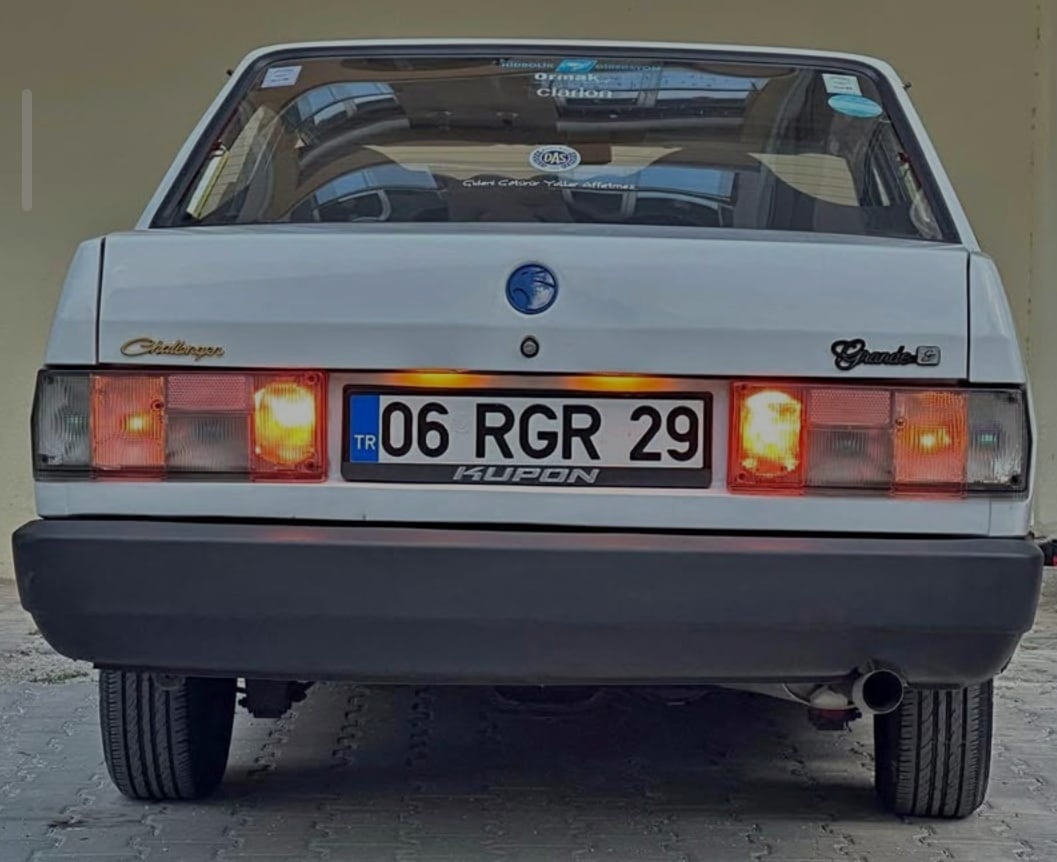plaka: (375, 374, 709, 478)
